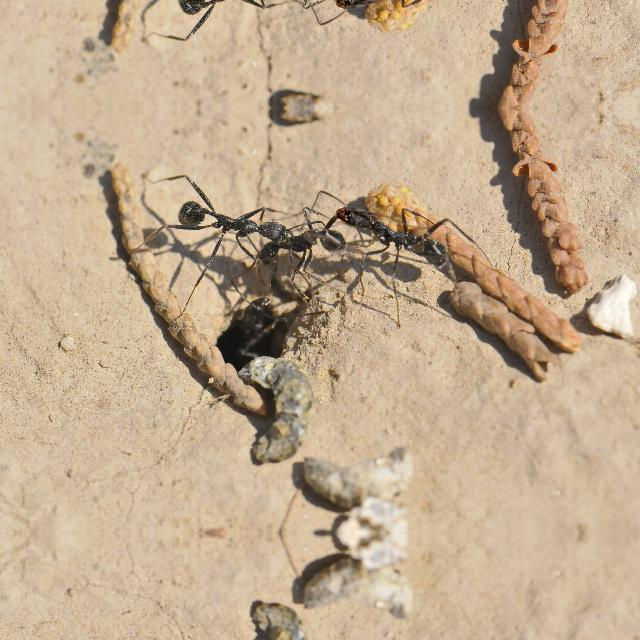Apheanogaster: (318, 189, 472, 273), (164, 191, 310, 259), (223, 286, 277, 364), (317, 0, 470, 24), (163, 0, 308, 22)
